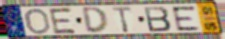B: (142, 6, 173, 33)
D: (81, 6, 110, 35)
E: (170, 5, 202, 33), (48, 7, 79, 35)
O: (24, 7, 52, 36)
T: (111, 6, 134, 34)
